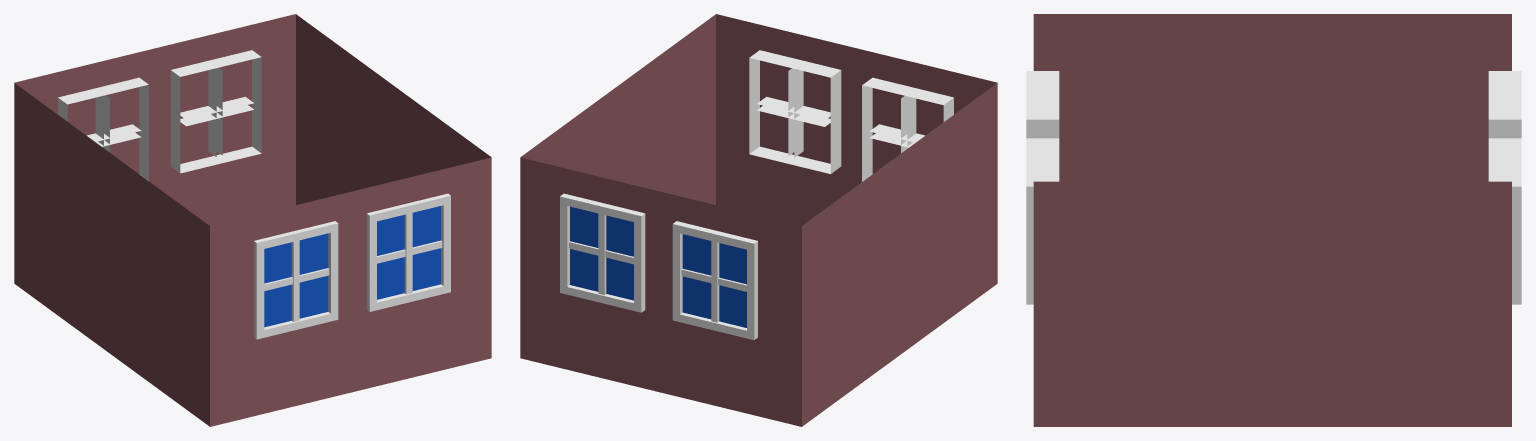
Rendered from CityBuildingA_04_flooor.fbx.
The picture shows the model from 3 angles, left to right: view 1: azimuth 30°, elevation 25°; view 2: azimuth 150°, elevation 25°; view 3: azimuth 270°, elevation 25°; orthographic projection. The views are drawn at different scales.
Parts seen in each view (by area): view 1: CityBuildingA_04_flooor; view 2: CityBuildingA_04_flooor; view 3: CityBuildingA_04_flooor.
Boxes of the visible parts, left/top/right/bottom form: CityBuildingA_04_flooor: left=14, top=14, right=491, bottom=426; CityBuildingA_04_flooor: left=520, top=14, right=997, bottom=426; CityBuildingA_04_flooor: left=1026, top=14, right=1521, bottom=426.
Bounding box in the file's own units: 0.4513 × 0.3075 × 0.563.
